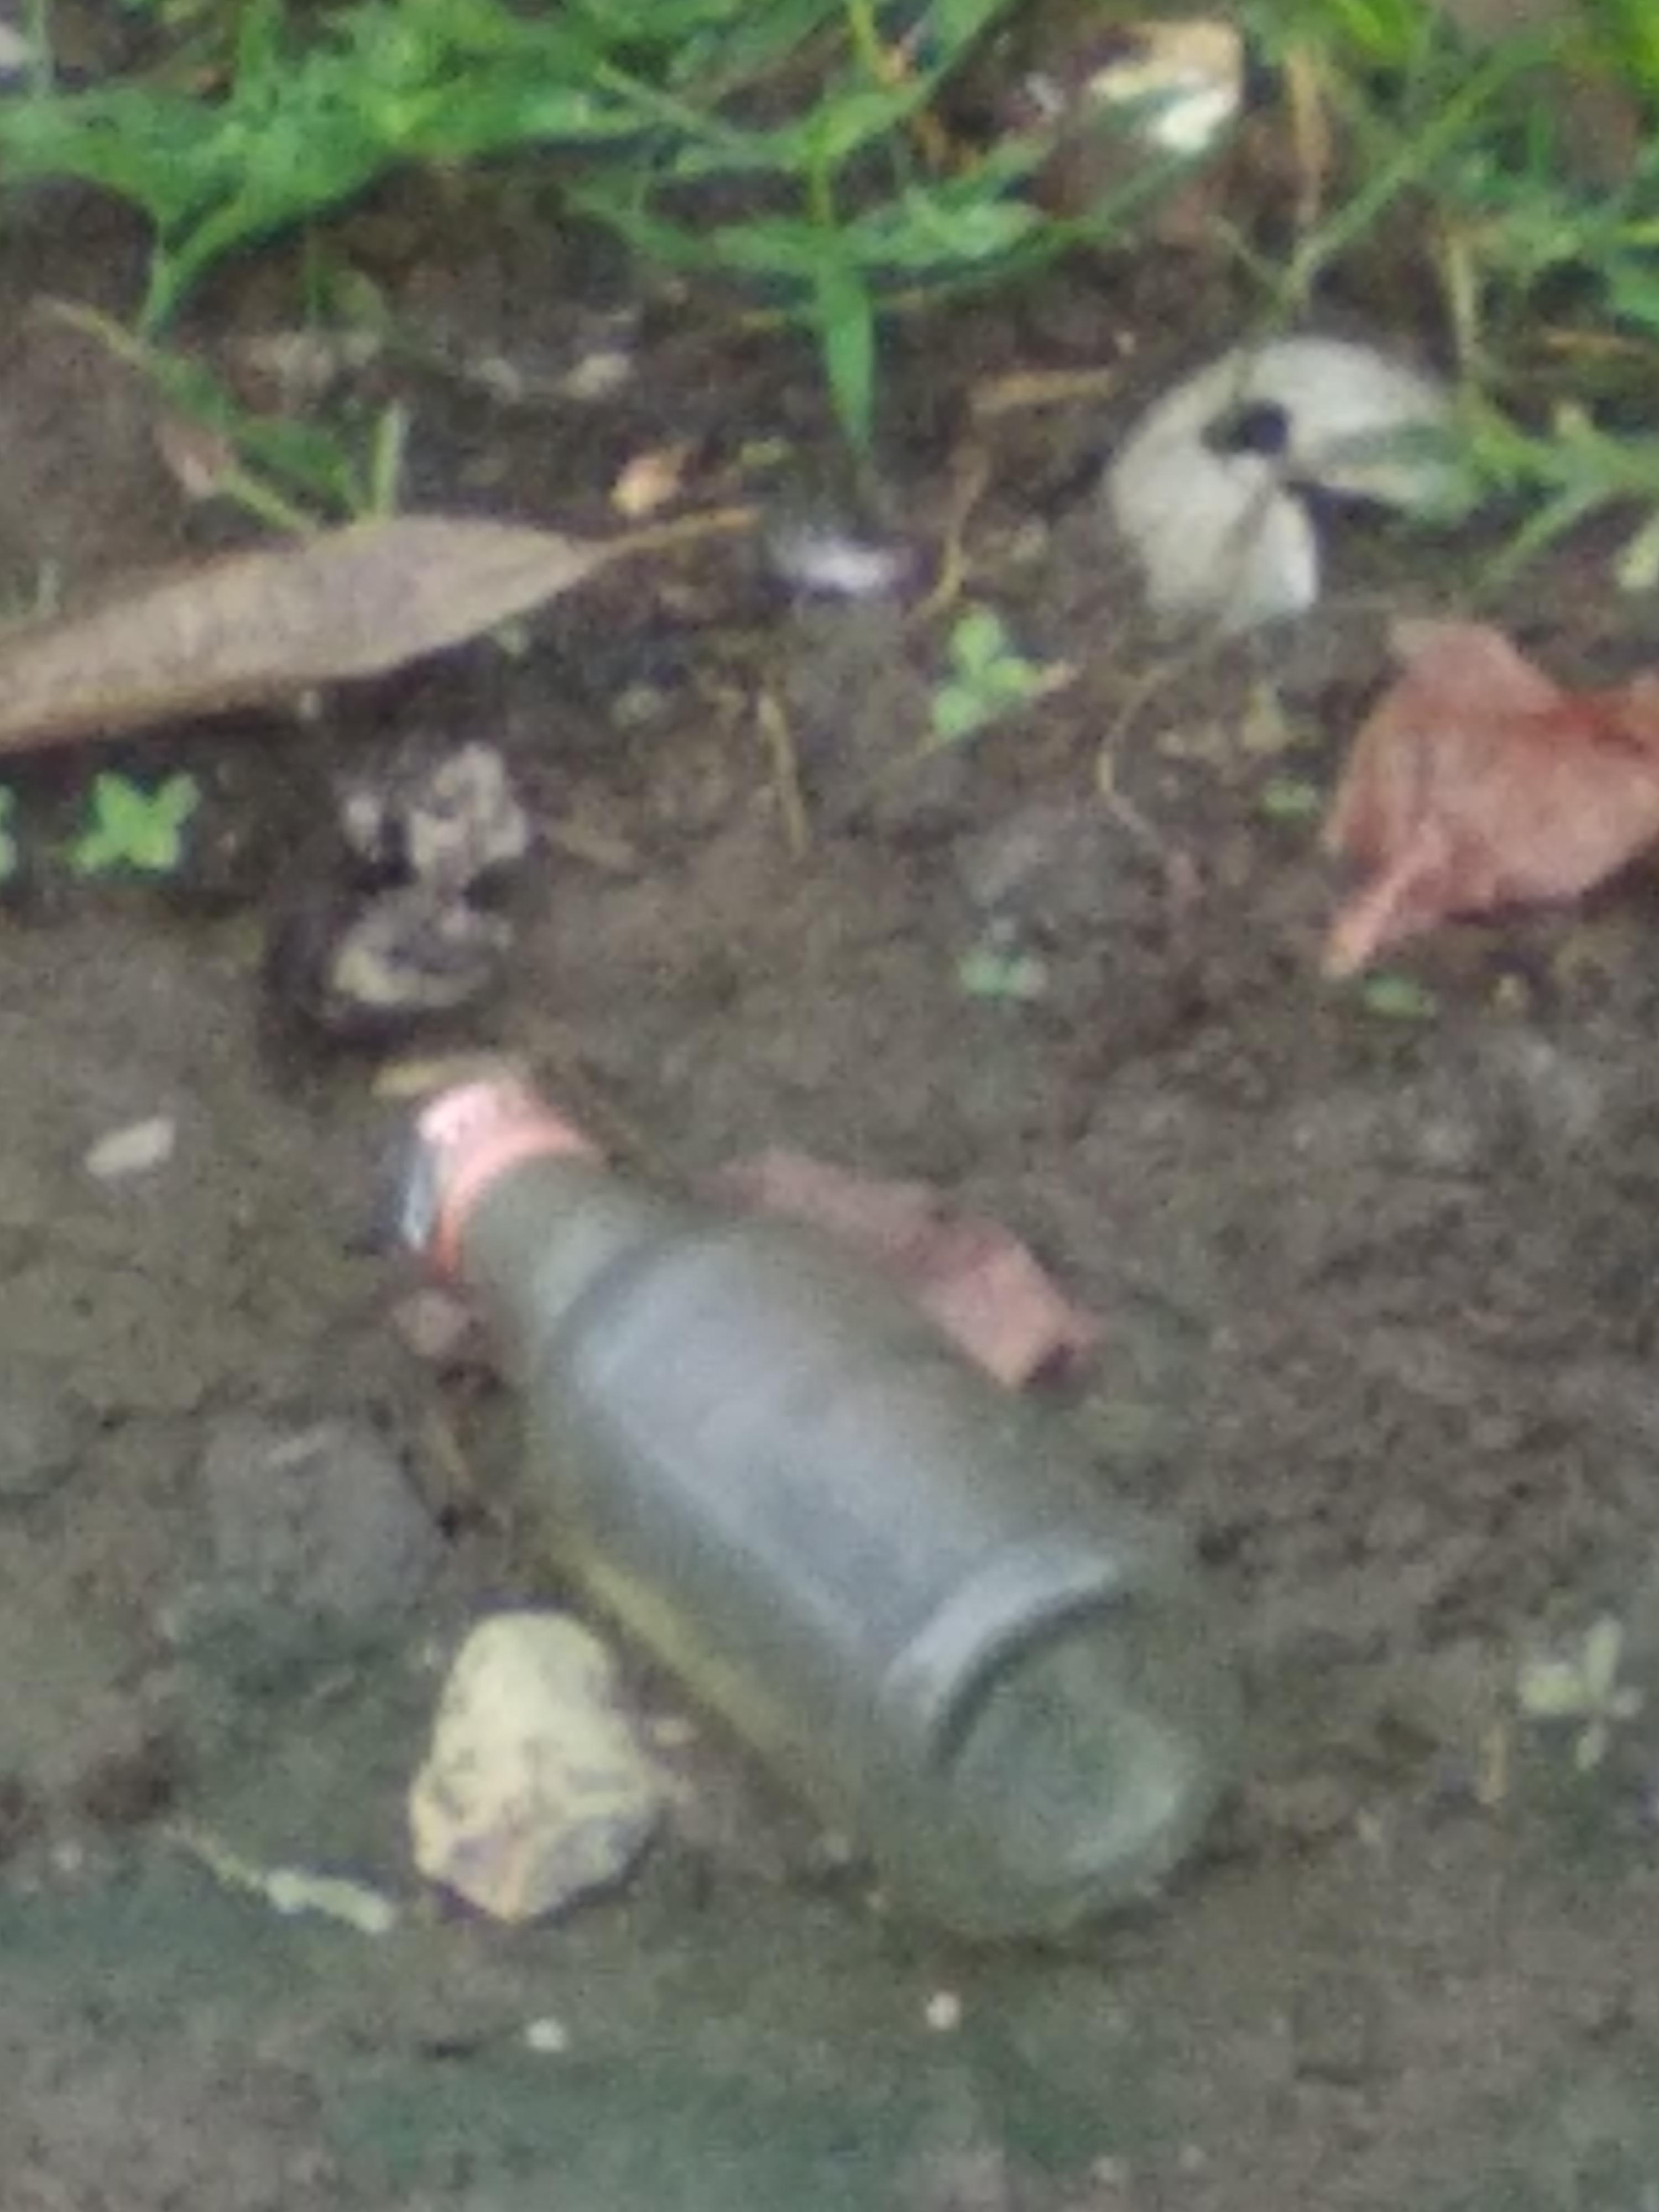organic: (364, 1055, 1246, 1968)
